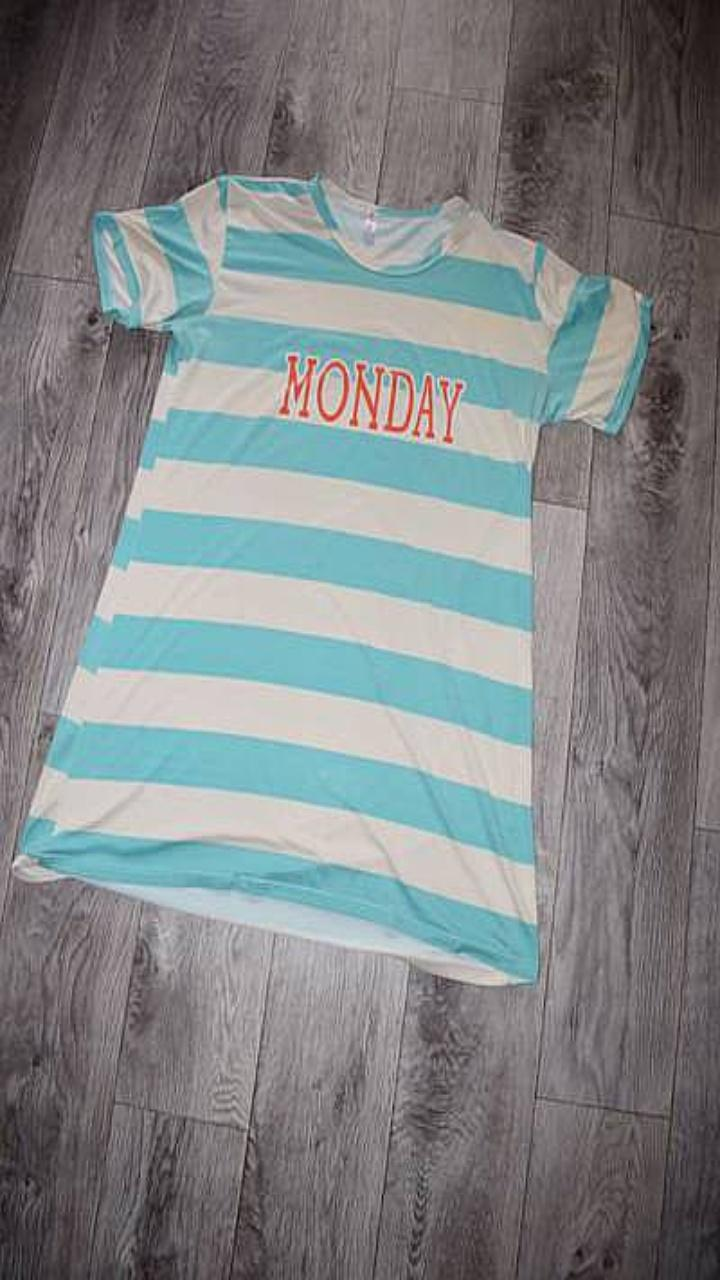T-Shirt: (13, 173, 652, 984)
